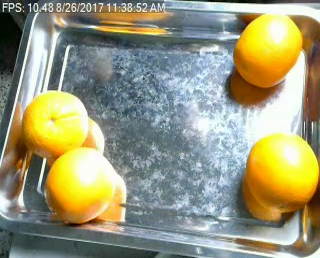Orange: (244, 133, 319, 213), (43, 147, 115, 222), (233, 12, 303, 87), (20, 89, 89, 157)
